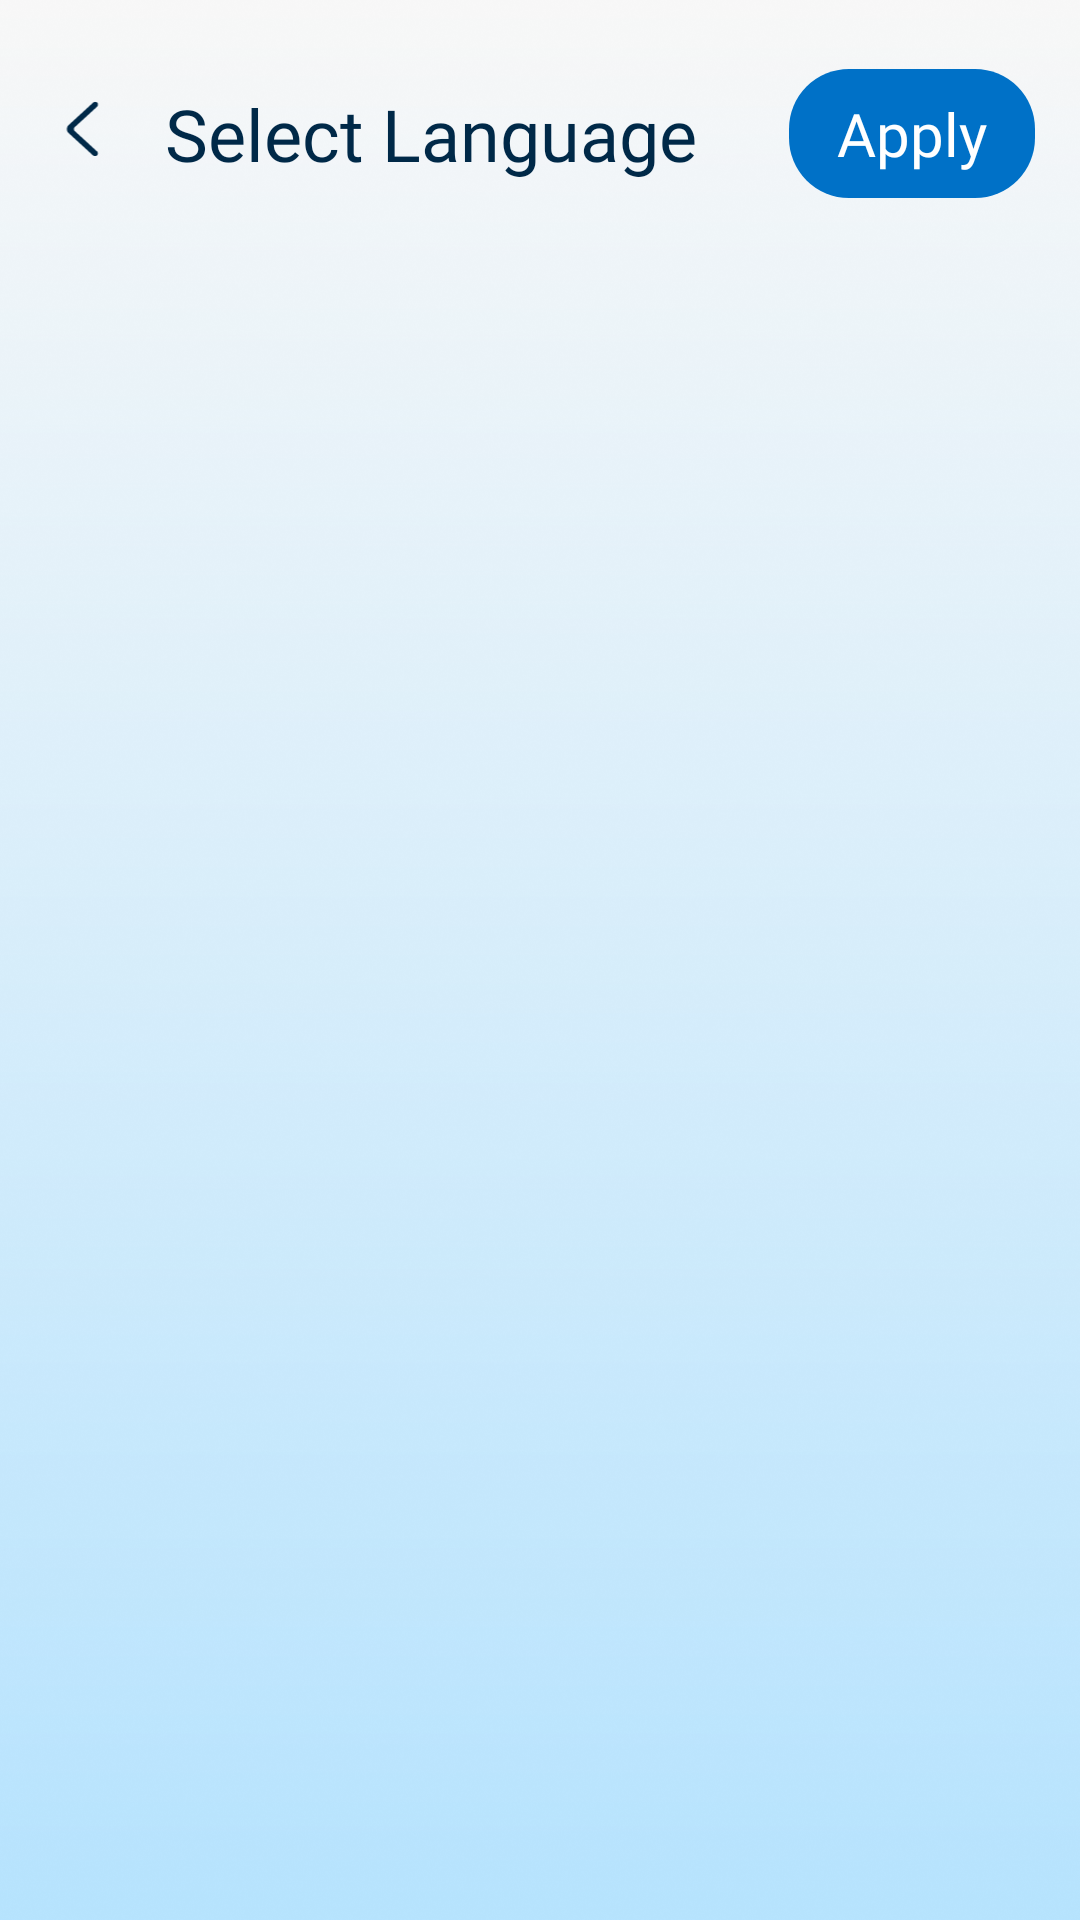

Named icons in this screenshot (1080 × 1920) and their bounding boxes, (x1, y1, x2, y2):
back language: (66, 102, 99, 156)
